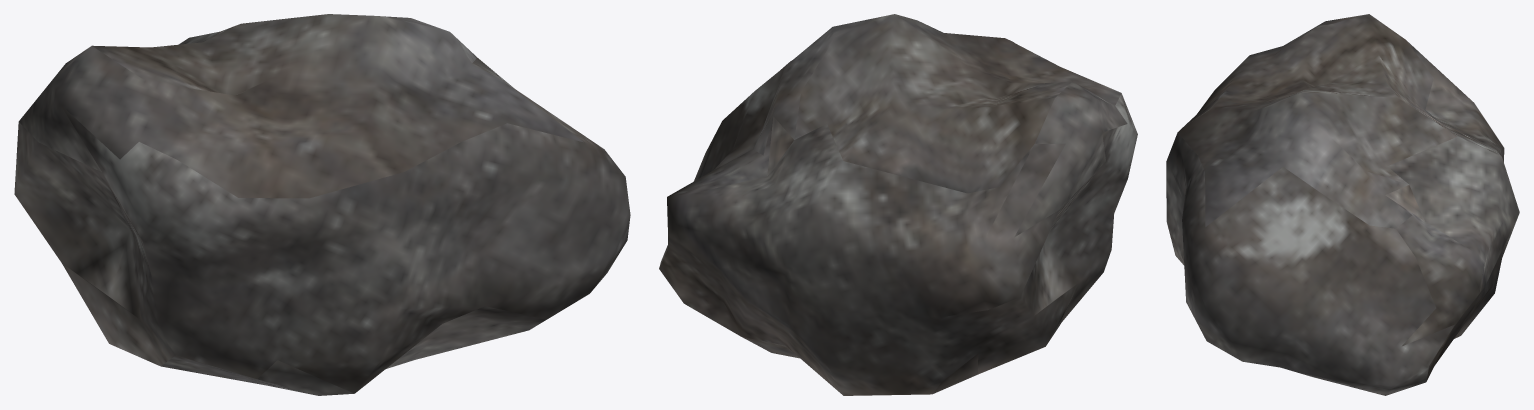
Rendered from N_Rock_15.fbx.
3 renders of one model, left to right at view 1: azimuth 30°, elevation 25°; view 2: azimuth 150°, elevation 25°; view 3: azimuth 270°, elevation 25°, orthographic. The views are drawn at different scales.
Visible parts, largest first — view 1: Mid Rock_3; view 2: Mid Rock_3; view 3: Mid Rock_3.
Boxes of the visible parts, x1,y1,x2,y2 form: Mid Rock_3: [14, 14, 630, 395]; Mid Rock_3: [659, 14, 1137, 395]; Mid Rock_3: [1166, 14, 1519, 395].
Size of the model in its own units: 181 by 126 by 151.
